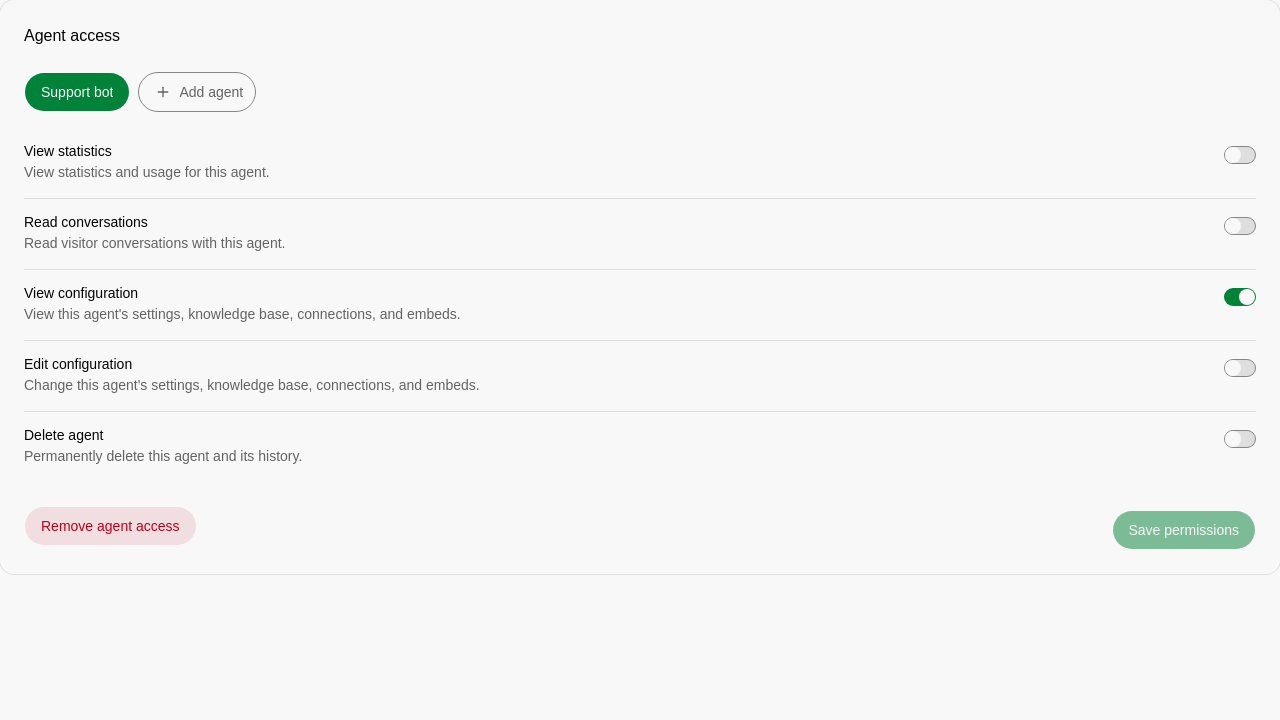
Test case: RoleAccessCard › directs an empty existing grant to removal instead of Save
What coordinates should you click on to do the following:
click the switch named "View configuration"
I would click on:
 (1240, 297)
Its box is [1224, 288, 1256, 306].
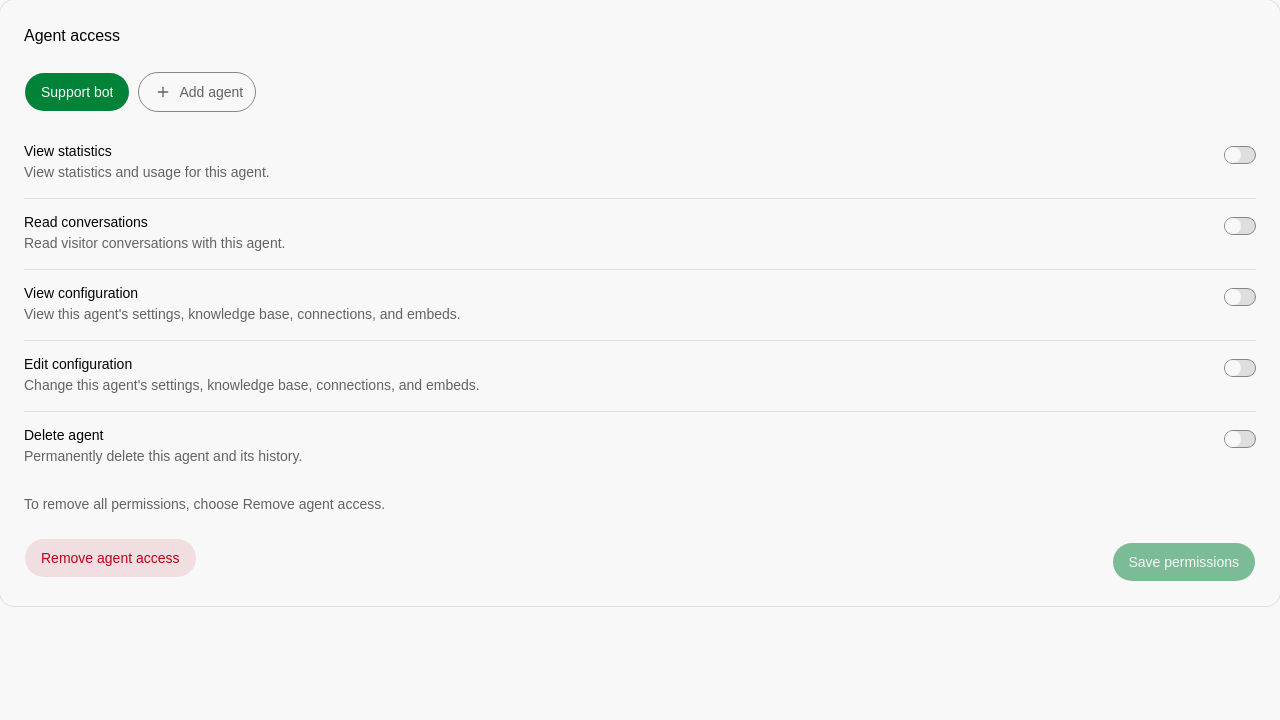
Check: the button "Save permissions" is disabled, box [1112, 542, 1256, 582]
Check: the text "To remove all permissions, choose Remove agent access." is shown, box [24, 496, 385, 512]
